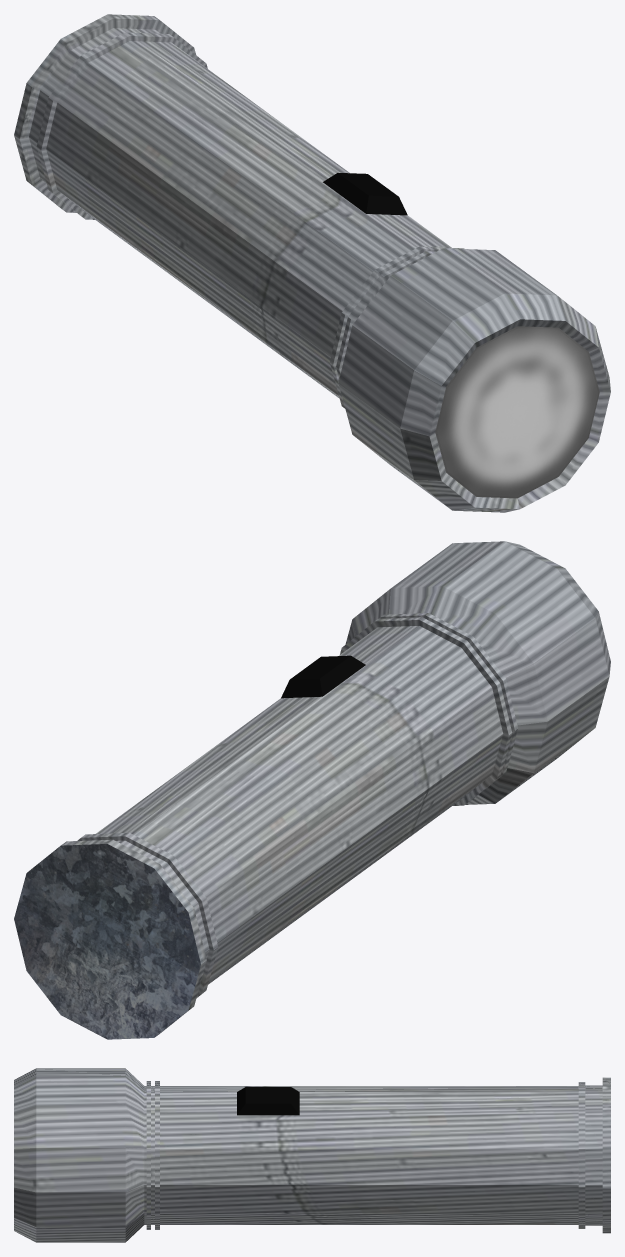
File: Flashlight.glb
3 renders of one model, top to bottom at view 1: azimuth 30°, elevation 25°; view 2: azimuth 150°, elevation 25°; view 3: azimuth 270°, elevation 25°, orthographic. The views are drawn at different scales.
Parts seen in each view (by area): view 1: Flashlight; view 2: Flashlight; view 3: Flashlight.
Part boxes in pixels (x1,y1,x2,y2): Flashlight: (14, 14, 610, 512); Flashlight: (14, 541, 610, 1039); Flashlight: (14, 1068, 610, 1242).
Bounding box in the file's own units: 0.2504 × 0.2504 × 0.8545.
1 material, 1 textured.
